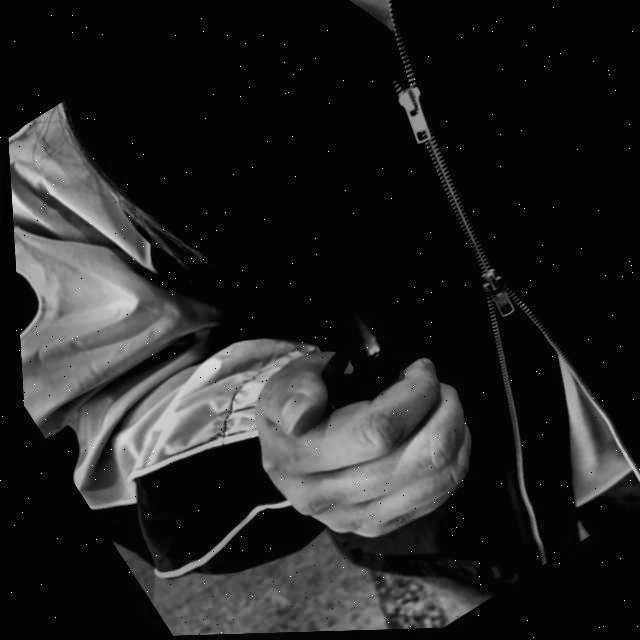Fire: (328, 288, 385, 360)
